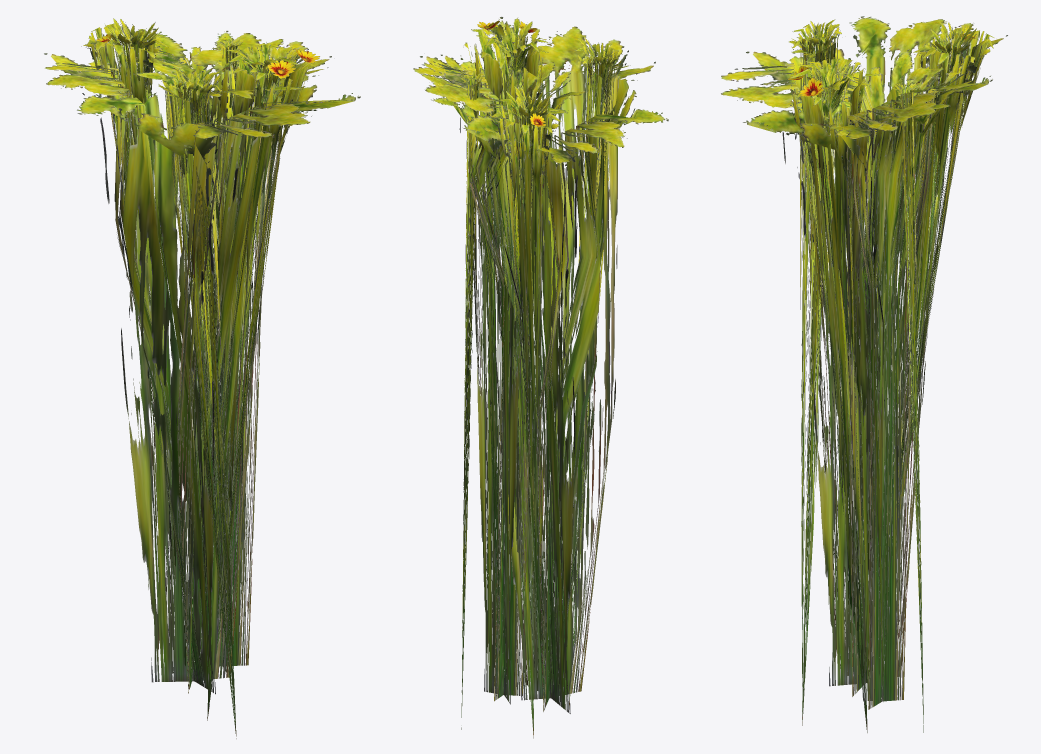
File: waterveg20m.DAE
The picture shows the model from 3 angles, left to right: view 1: azimuth 30°, elevation 25°; view 2: azimuth 150°, elevation 25°; view 3: azimuth 270°, elevation 25°; orthographic projection. The views are drawn at different scales.
Visible parts, largest first — view 1: Object09-Pivot; view 2: Object09-Pivot; view 3: Object09-Pivot.
Part boxes in pixels (bbox=[...]): Object09-Pivot: bbox=[44, 18, 360, 738]; Object09-Pivot: bbox=[413, 16, 668, 738]; Object09-Pivot: bbox=[721, 16, 1007, 732].
Bounding box in the file's own units: 44.3 × 106 × 44.99.
